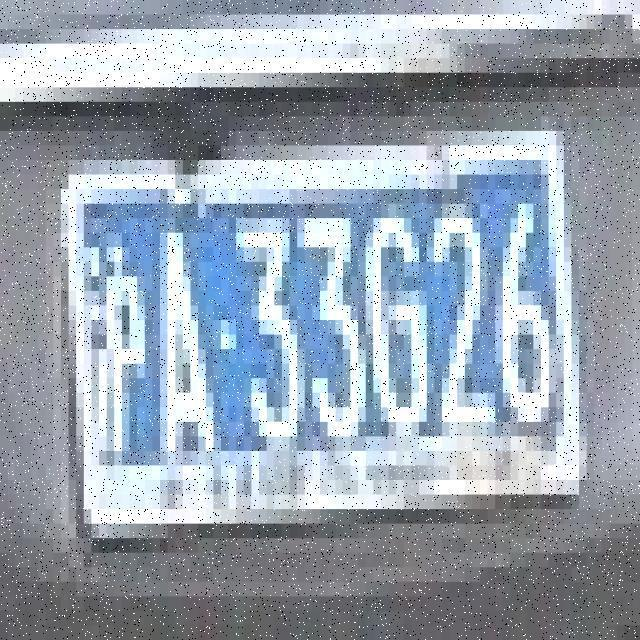LicensePlate: (39, 118, 598, 530)
